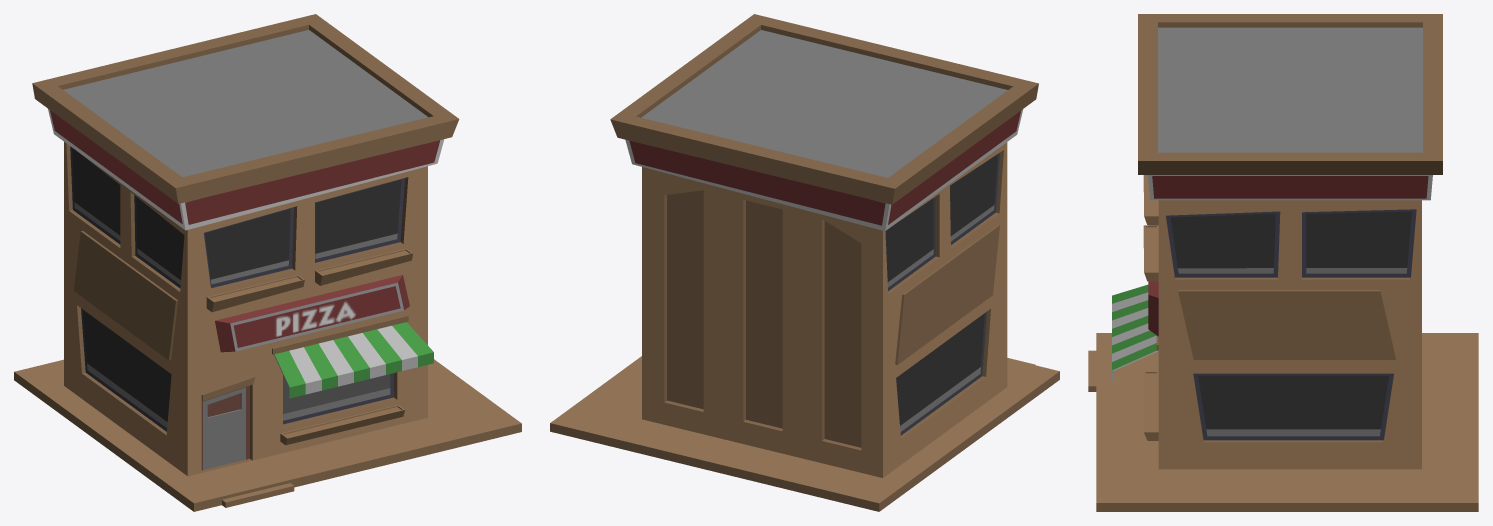
File: pizza02_color01.fbx
The picture shows the model from 3 angles, left to right: view 1: azimuth 30°, elevation 25°; view 2: azimuth 150°, elevation 25°; view 3: azimuth 270°, elevation 25°; orthographic projection. The views are drawn at different scales.
Parts seen in each view (by area): view 1: pizza02_color01; view 2: pizza02_color01; view 3: pizza02_color01.
Boxes of the visible parts, x1,y1,x2,y2 form: pizza02_color01: [14, 14, 521, 511]; pizza02_color01: [550, 14, 1059, 511]; pizza02_color01: [1088, 14, 1478, 511].
Size of the model in its own units: 1295 by 1167 by 1258.
